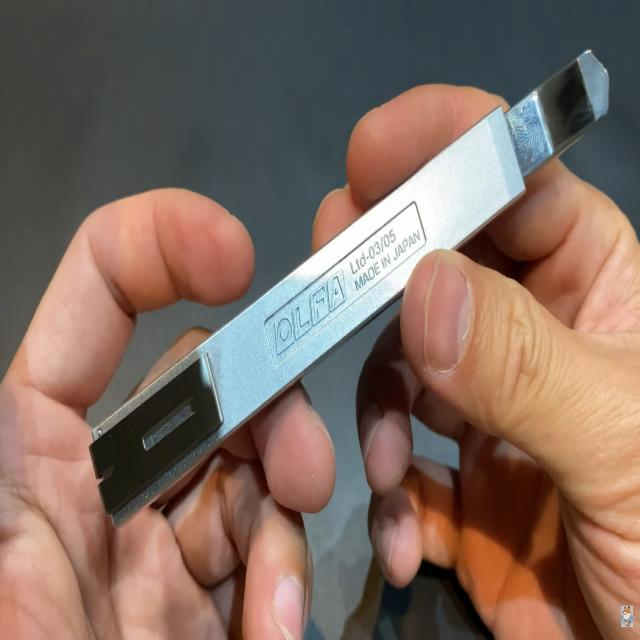cutter: (37, 30, 640, 614)
